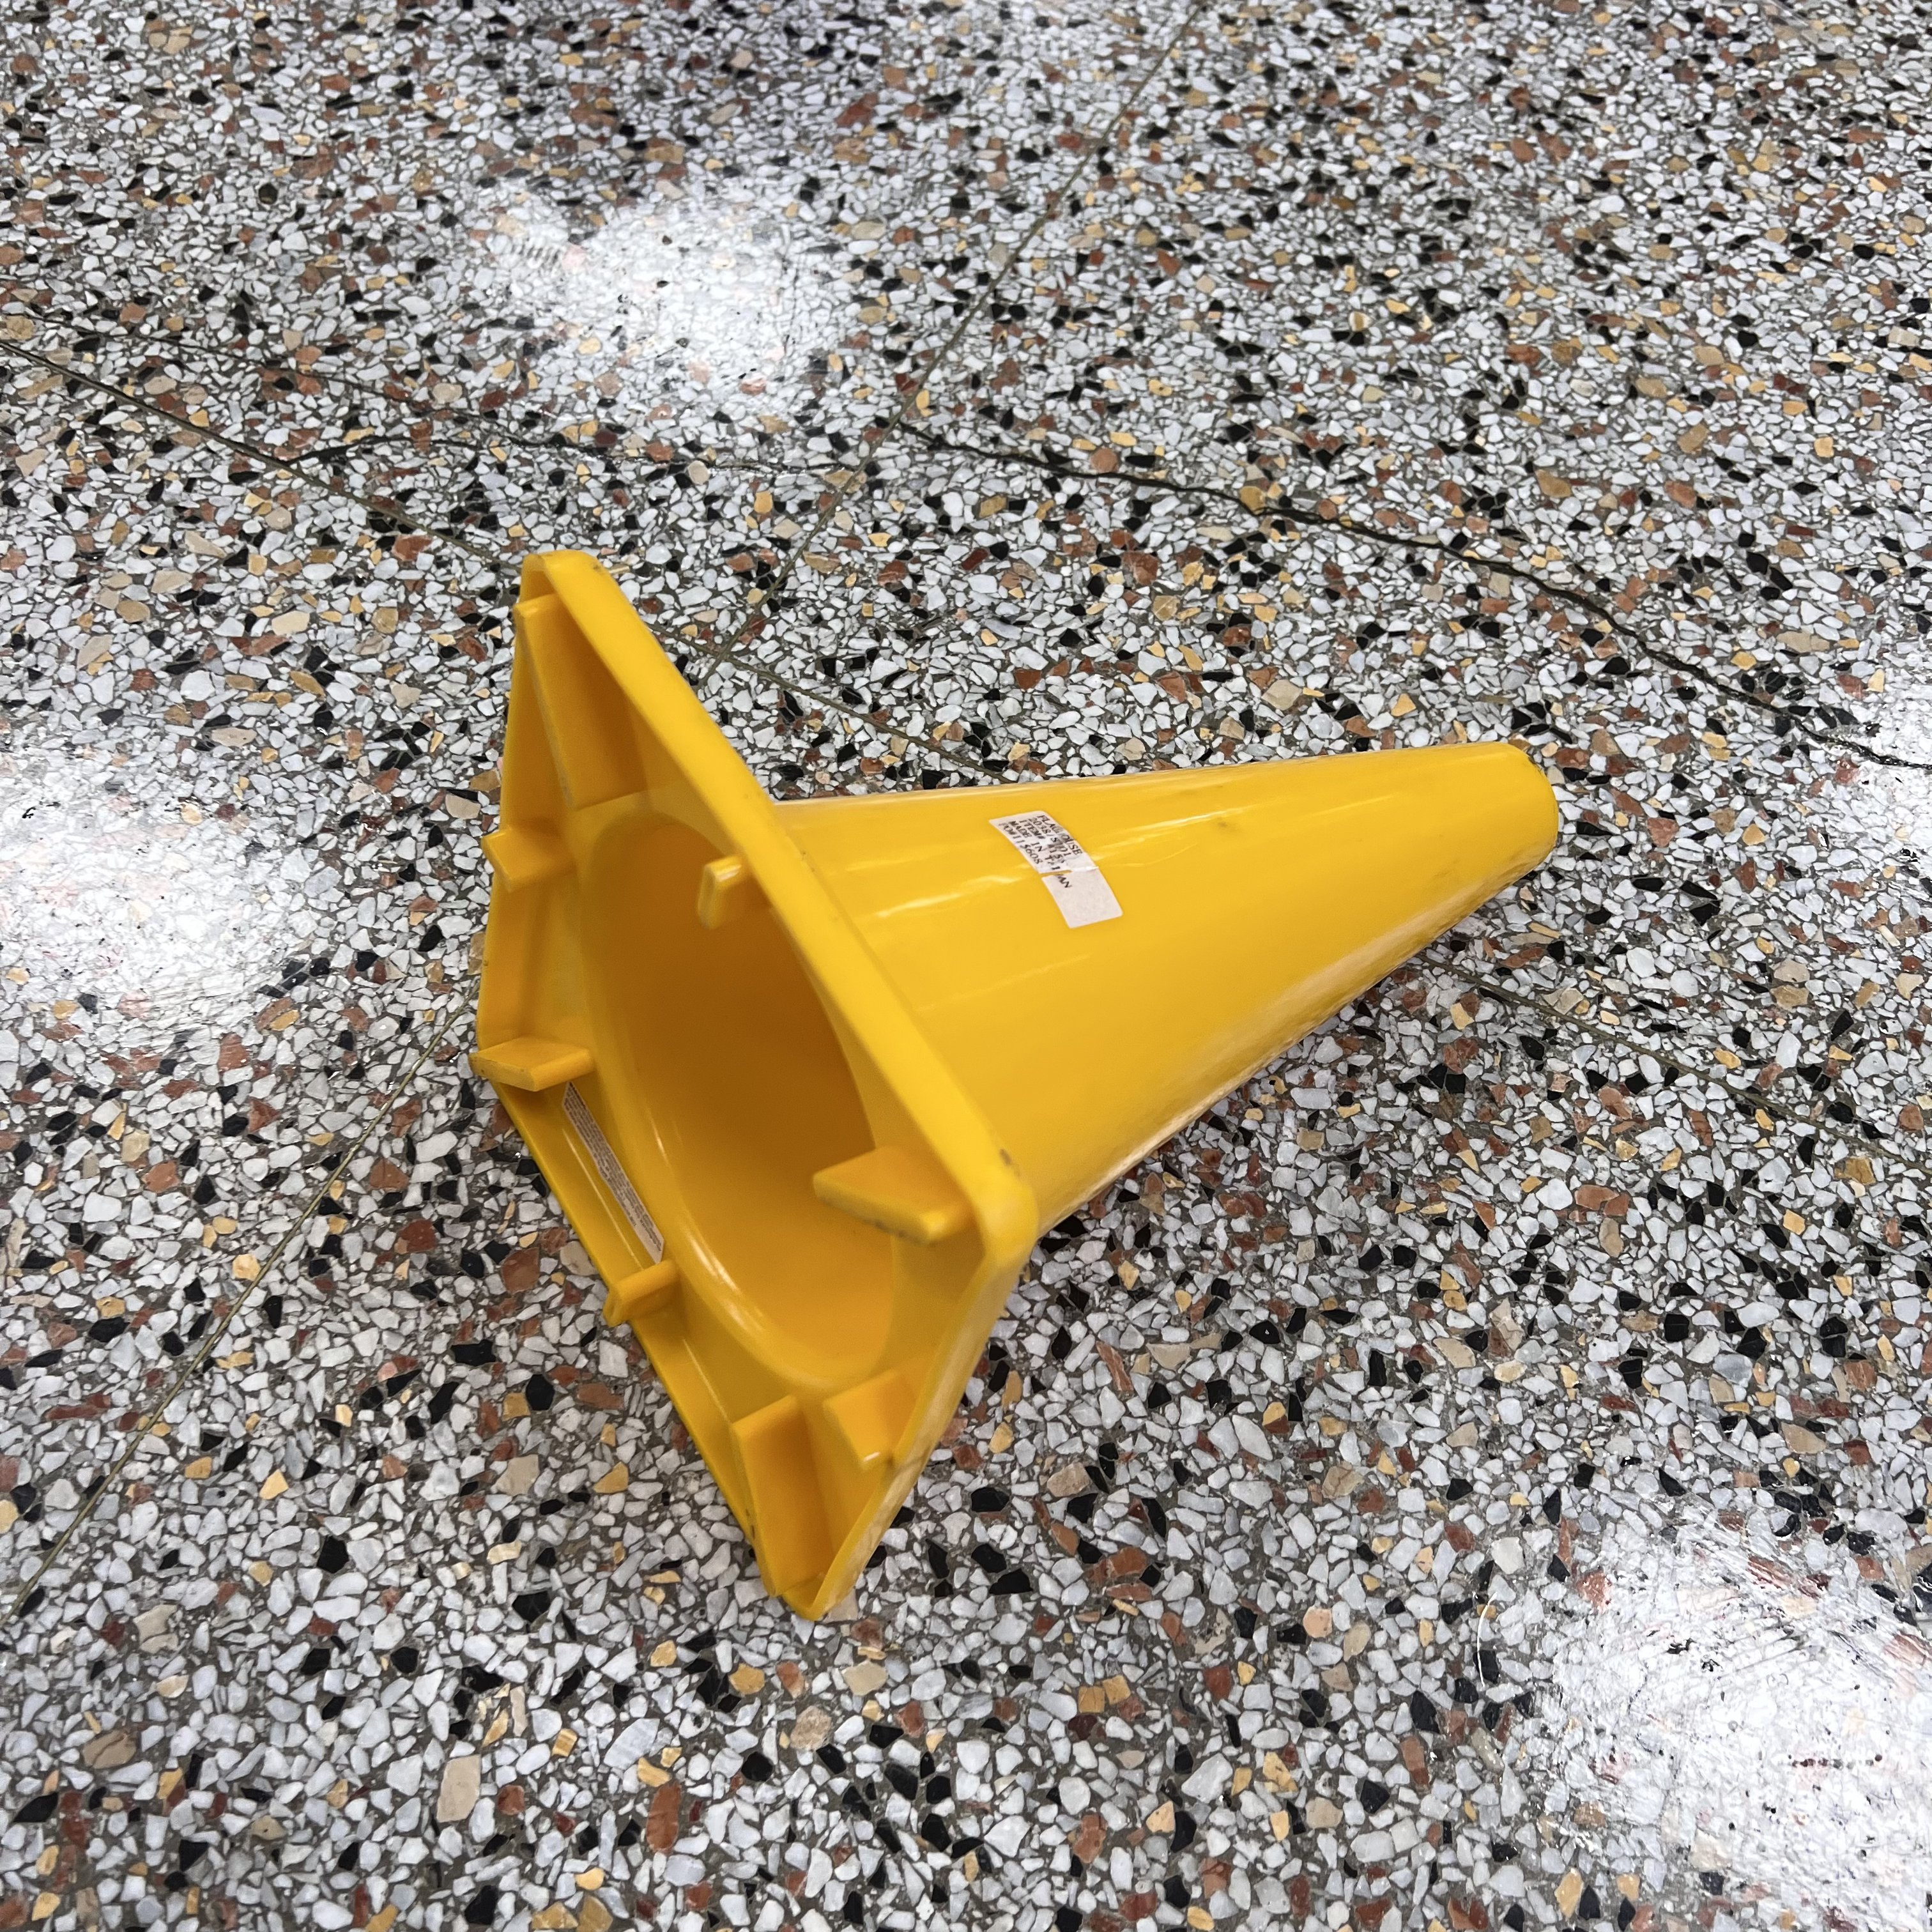cone: (467, 552, 1562, 1621)
